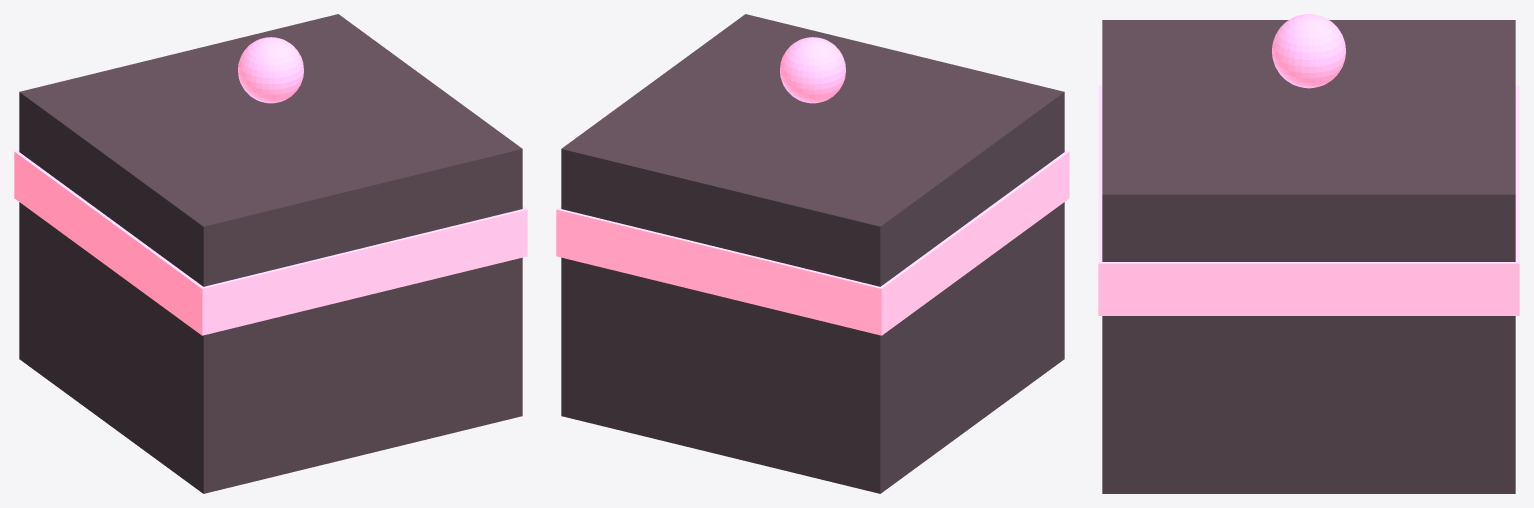
The model's file is bldg_emerg.glb.
3 renders of one model, left to right at view 1: azimuth 30°, elevation 25°; view 2: azimuth 150°, elevation 25°; view 3: azimuth 270°, elevation 25°, orthographic. The views are drawn at different scales.
Parts seen in each view (by area): view 1: Body, Stripe, siren; view 2: Body, Stripe, siren; view 3: Body, Stripe, siren.
Part boxes in pixels (x1,y1,x2,y2): Body: (19,14,522,493); Stripe: (14,150,527,335); siren: (238,37,303,103); Body: (561,14,1064,493); Stripe: (556,150,1069,335); siren: (780,37,845,103); Body: (1102,20,1515,493); Stripe: (1098,85,1519,315); siren: (1272,14,1345,88).
Size of the model in its own units: 1.02 by 1.04 by 1.02.
